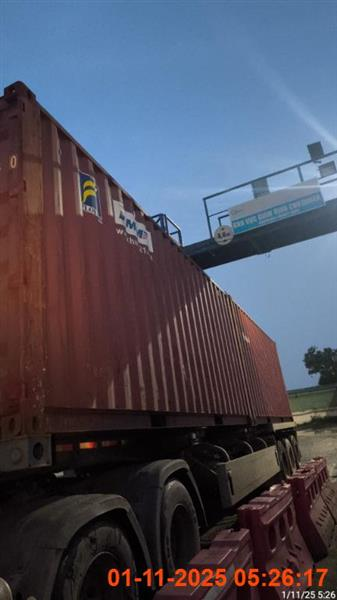broken: (0, 81, 329, 598)
